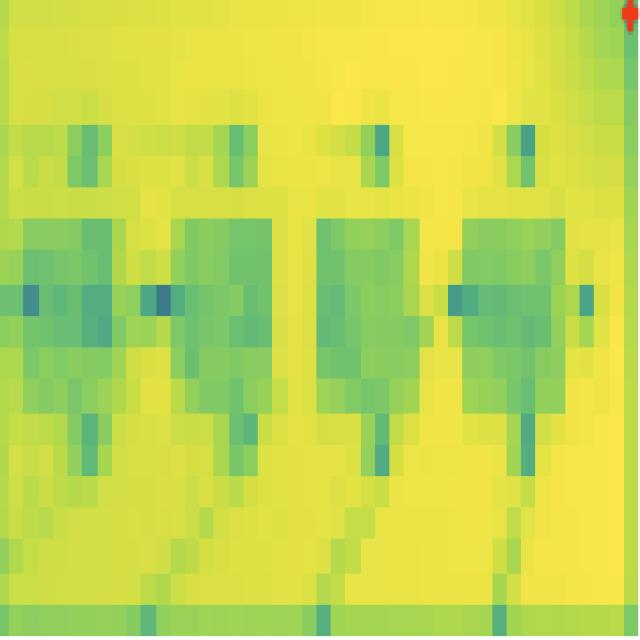Concrete: (305, 181, 436, 436)
Glass: (165, 186, 278, 437)
Metal: (458, 194, 570, 426)
Wood: (15, 191, 137, 442)
